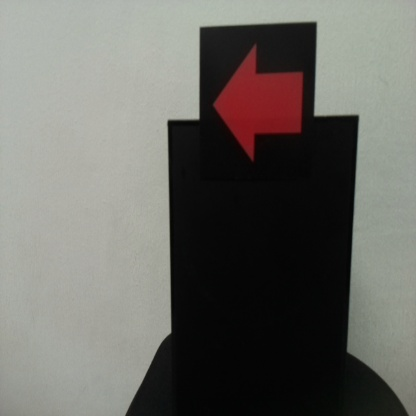id_4: (200, 28, 315, 180)
